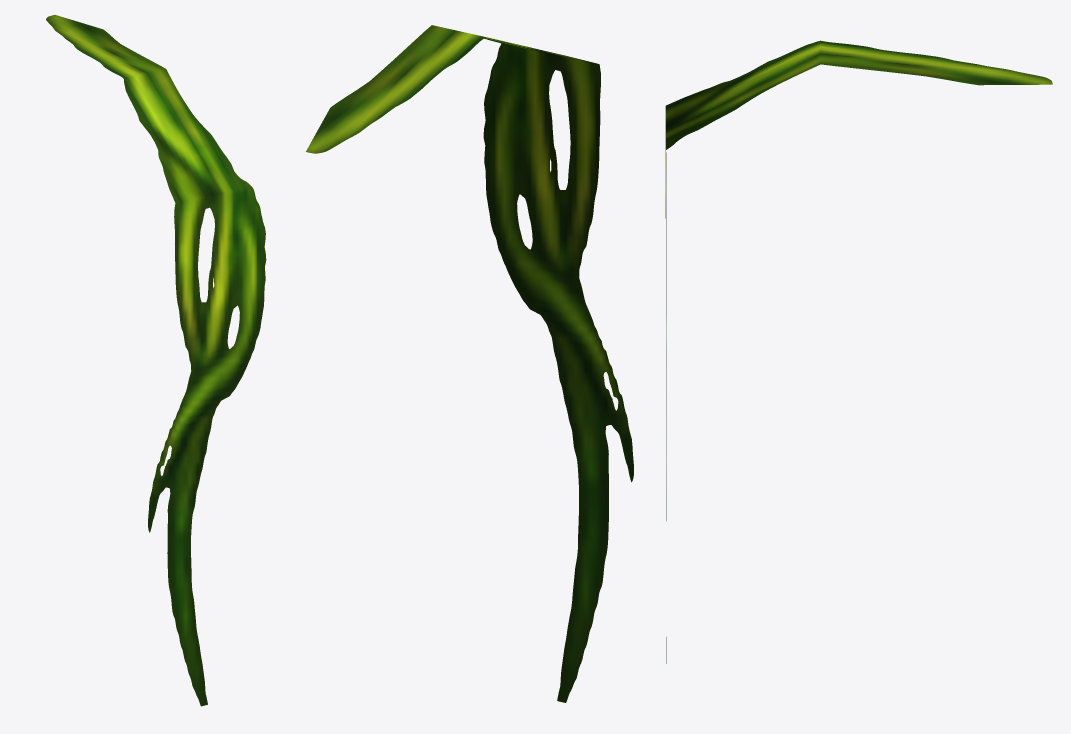
File: tengma01.FBX
3 views of the same model, side by side, from view 1: azimuth 30°, elevation 25°; view 2: azimuth 150°, elevation 25°; view 3: azimuth 270°, elevation 25° (orthographic). The views are drawn at different scales.
Parts seen in each view (by area): view 1: luoye01; view 2: luoye01; view 3: luoye01.
Boxes of the visible parts, x1,y1,x2,y2 form: luoye01: [46, 15, 266, 706]; luoye01: [306, 25, 633, 702]; luoye01: [665, 40, 1052, 663].
Size of the model in its own units: 6.32 by 26.99 by 15.03.
